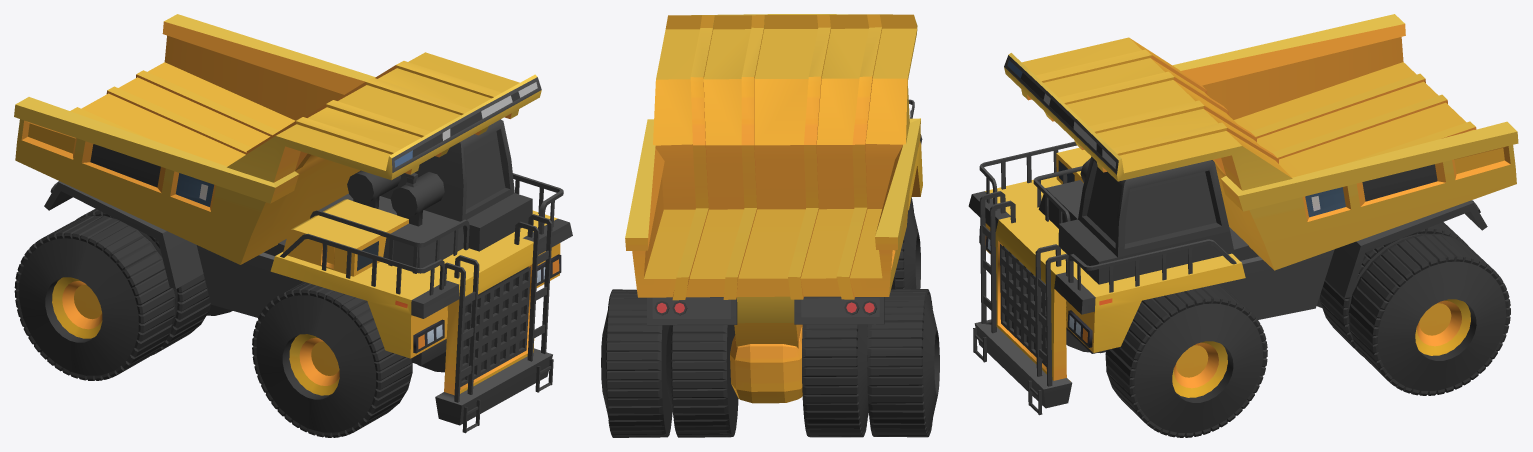
Rendered from DumpTruck (2).fbx.
3 renders of one model, left to right at view 1: azimuth 30°, elevation 25°; view 2: azimuth 150°, elevation 25°; view 3: azimuth 270°, elevation 25°, orthographic. The views are drawn at different scales.
Visible parts, largest first — view 1: trailer_001, car, BackL2__5_, BackL2__4_, BackL2__3_; view 2: trailer_001, car, BackL2__5_, BackL2, BackL2__3_, BackL2__2_, BackL2__4_; view 3: trailer_001, car, BackL2, BackL2__1_, BackL2__2_.
Boxes of the visible parts, <box> form: trailer_001: <box>14,14,541,264</box>; car: <box>44,119,572,433</box>; BackL2__5_: <box>14,215,175,380</box>; BackL2__4_: <box>252,282,412,437</box>; BackL2__3_: <box>75,208,210,355</box>; trailer_001: <box>625,14,920,300</box>; car: <box>647,99,922,403</box>; BackL2__5_: <box>867,289,939,437</box>; BackL2: <box>601,289,672,437</box>; BackL2__3_: <box>802,324,868,437</box>; BackL2__2_: <box>666,325,738,437</box>; BackL2__4_: <box>895,197,920,288</box>; trailer_001: <box>1004,14,1518,270</box>; car: <box>968,141,1487,415</box>; BackL2: <box>1348,233,1510,395</box>; BackL2__1_: <box>1105,284,1267,437</box>; BackL2__2_: <box>1320,222,1468,356</box>.
Bounding box in the file's own units: 401 × 287 × 472.
